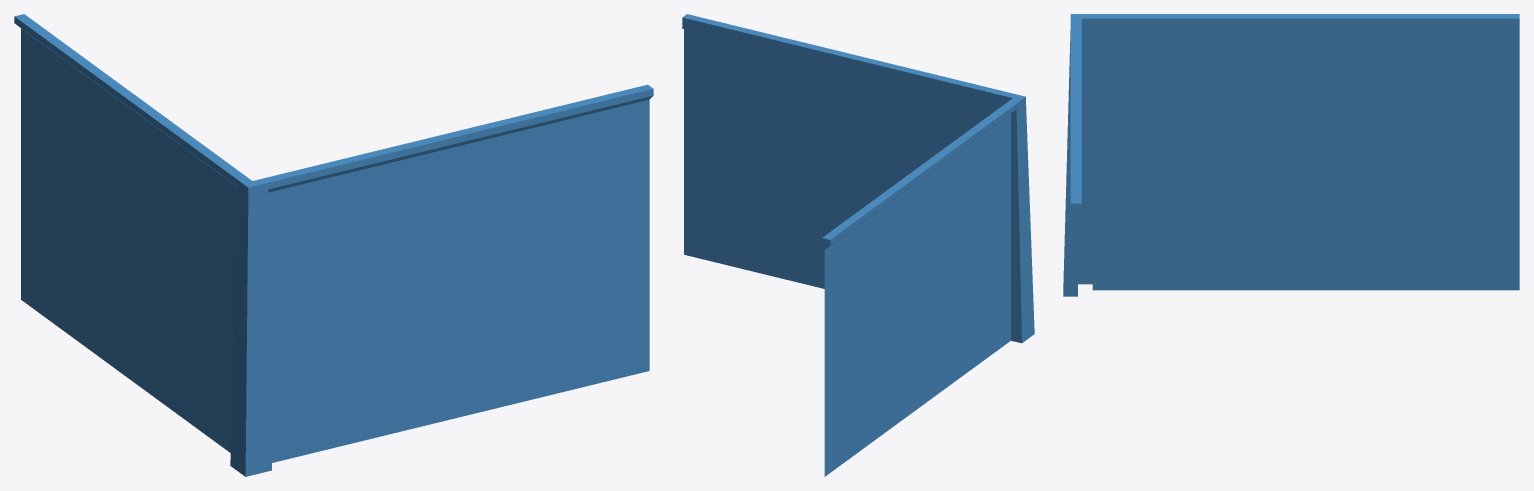
Rendered from Pod_Wall_Cor_B.fbx.
3 renders of one model, left to right at view 1: azimuth 30°, elevation 25°; view 2: azimuth 150°, elevation 25°; view 3: azimuth 270°, elevation 25°, orthographic. The views are drawn at different scales.
Visible parts, largest first — view 1: Pod_Wall_Cor_B; view 2: Pod_Wall_Cor_B; view 3: Pod_Wall_Cor_B.
Boxes of the visible parts, x1,y1,x2,y2 form: Pod_Wall_Cor_B: (14,14,653,476); Pod_Wall_Cor_B: (682,14,1034,476); Pod_Wall_Cor_B: (1063,14,1519,296).
Bounding box in the file's own units: 930 × 615 × 930.
